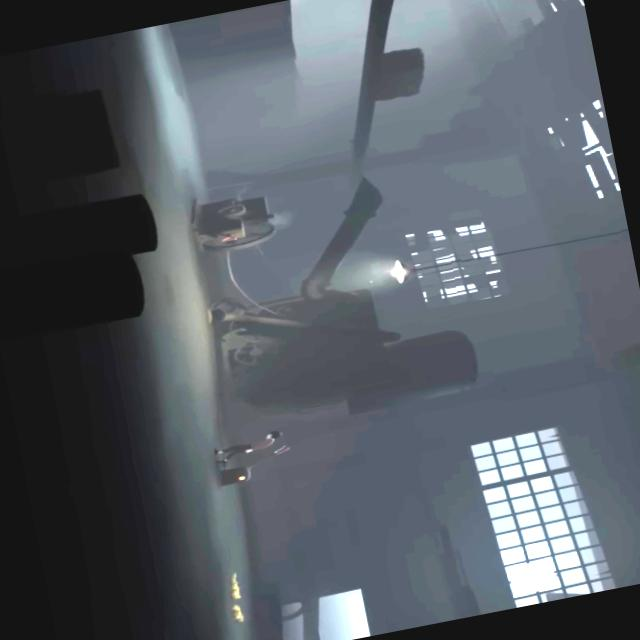boy: (212, 431, 285, 464)
